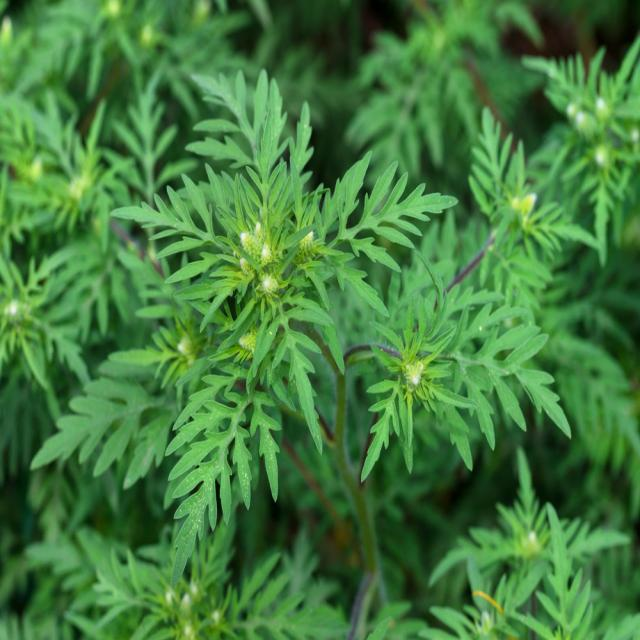ambrosia: (137, 94, 423, 421), (60, 336, 356, 606), (349, 262, 581, 491)
